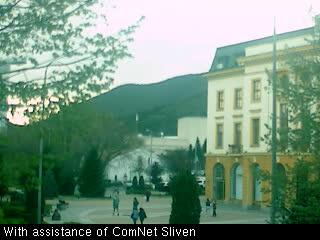person: (138, 207, 147, 224), (204, 196, 212, 215), (211, 197, 218, 217), (113, 194, 119, 216), (131, 206, 138, 223), (132, 197, 139, 208), (146, 188, 151, 201)
